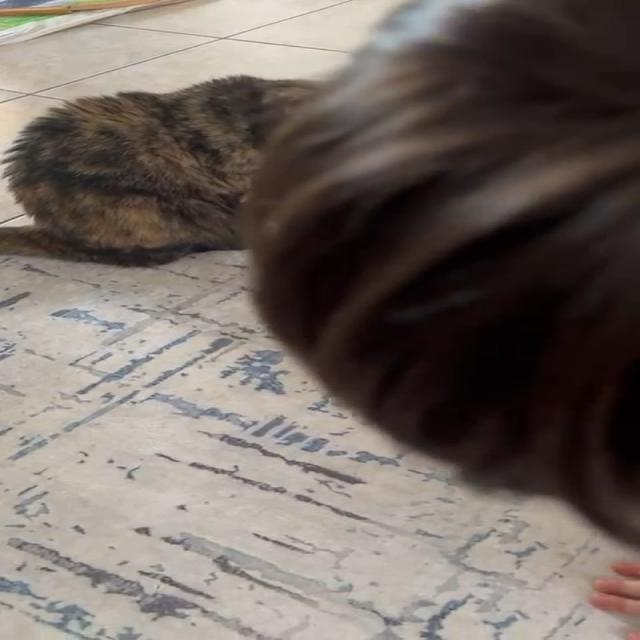authorized: (0, 73, 324, 268)
